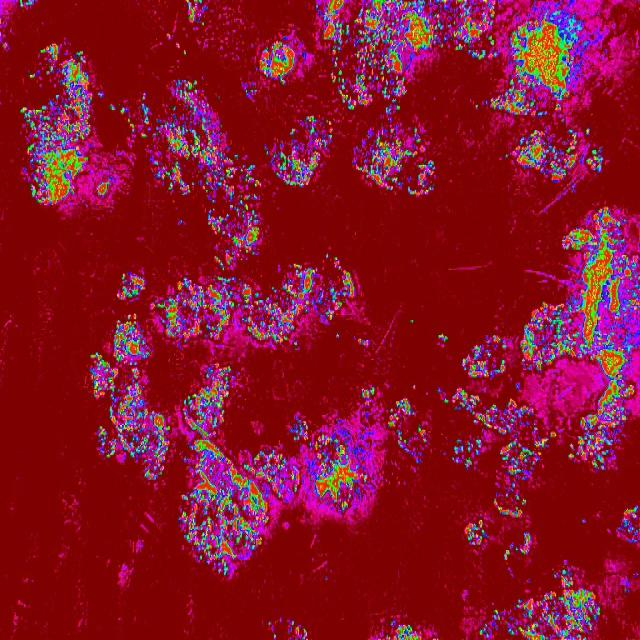fire: (178, 442, 268, 578), (562, 211, 640, 365), (504, 5, 594, 120), (164, 275, 289, 349), (157, 81, 235, 197), (354, 0, 502, 55), (17, 102, 91, 208), (350, 123, 436, 199), (110, 314, 149, 465), (263, 114, 332, 190), (308, 431, 369, 514), (504, 589, 600, 640), (330, 54, 408, 114), (182, 359, 236, 442), (505, 125, 579, 183), (204, 196, 260, 272), (568, 415, 630, 473), (520, 298, 561, 372), (479, 394, 538, 436), (460, 333, 510, 381), (288, 260, 320, 334), (500, 433, 548, 482), (256, 39, 299, 87), (594, 366, 636, 414), (56, 50, 92, 104), (322, 274, 356, 324), (314, 0, 344, 55), (267, 450, 300, 500), (149, 410, 173, 465), (88, 352, 109, 402), (494, 490, 527, 520), (450, 439, 483, 469), (385, 398, 415, 430), (237, 155, 261, 194), (115, 272, 144, 302), (621, 503, 640, 547), (463, 516, 489, 548), (384, 621, 425, 640), (450, 390, 479, 416), (184, 0, 210, 26), (36, 44, 58, 74), (138, 91, 151, 140), (284, 619, 310, 640), (290, 416, 309, 443), (585, 146, 603, 174), (95, 177, 114, 202), (96, 424, 110, 456), (140, 464, 166, 481), (552, 568, 574, 588), (119, 108, 135, 134), (484, 94, 505, 111), (518, 533, 532, 557), (412, 427, 428, 445), (394, 431, 409, 450), (358, 387, 376, 402), (243, 84, 259, 100), (356, 336, 372, 350), (332, 254, 343, 270), (16, 0, 34, 9), (479, 624, 488, 640), (344, 23, 350, 45), (438, 332, 450, 343), (503, 548, 514, 560), (491, 609, 500, 623), (152, 300, 163, 310), (549, 429, 559, 439), (96, 90, 105, 100), (510, 480, 519, 490), (108, 103, 116, 113), (323, 250, 331, 260), (178, 218, 184, 228), (473, 102, 480, 110), (408, 317, 416, 324), (180, 49, 188, 56), (28, 71, 34, 80), (271, 631, 277, 640), (292, 339, 298, 347), (584, 127, 590, 134), (472, 418, 479, 424), (442, 397, 448, 404), (436, 386, 442, 393), (581, 516, 585, 526), (335, 332, 339, 341), (412, 382, 418, 388), (266, 620, 270, 628)
